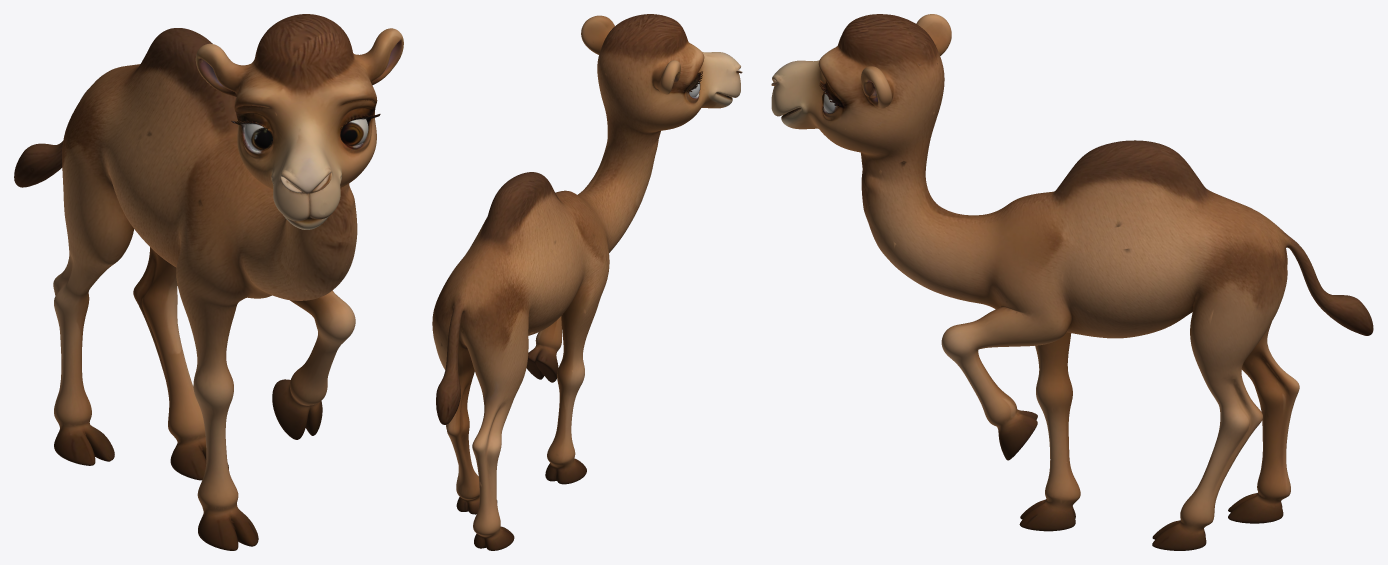
The model's file is desktop.glb.
3 views of the same model, side by side, from view 1: azimuth 30°, elevation 25°; view 2: azimuth 150°, elevation 25°; view 3: azimuth 270°, elevation 25° (orthographic). The views are drawn at different scales.
Visible parts, largest first — view 1: material; view 2: material; view 3: material.
Boxes of the visible parts, box(x1,y1,x2,y2) form: material: box(14, 14, 403, 550); material: box(432, 14, 742, 550); material: box(771, 14, 1373, 550).
Bounding box in the file's own units: 0.2956 × 0.9104 × 1.
Materials: 1 (1 with a texture image).
